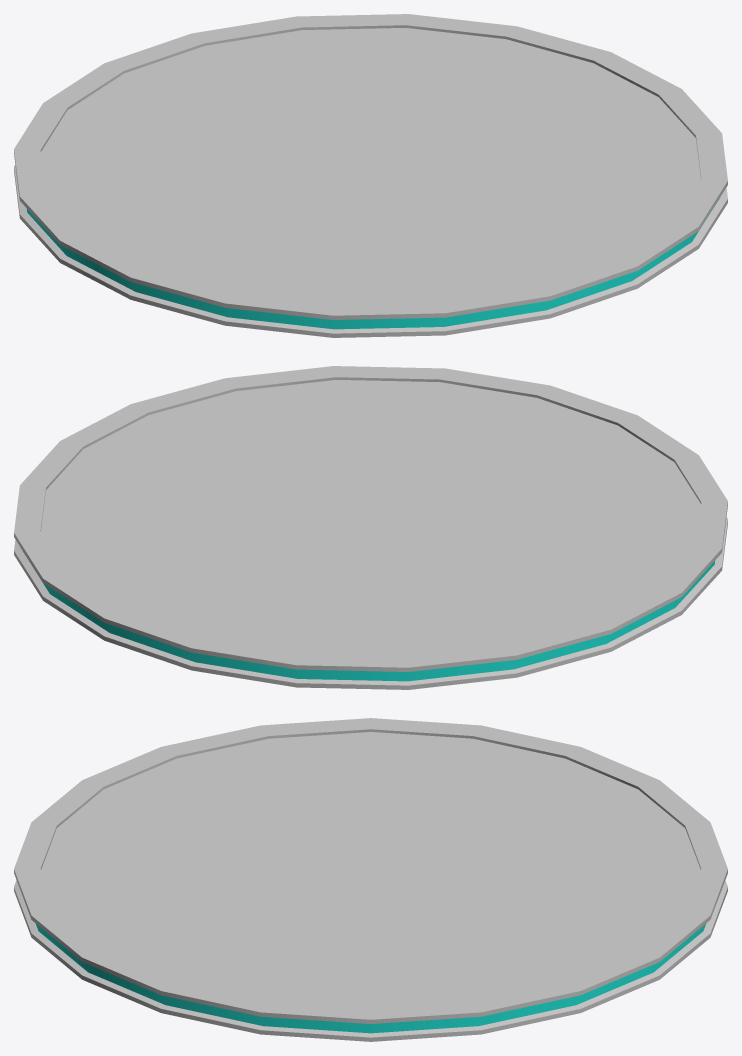
The model's file is piattaforma mod.fbx.
3 views of the same model, one above another, from view 1: azimuth 30°, elevation 25°; view 2: azimuth 150°, elevation 25°; view 3: azimuth 270°, elevation 25° (orthographic).
Visible parts, largest first — view 1: pCylinder1; view 2: pCylinder1; view 3: pCylinder1.
Part boxes in pixels (x1,y1,x2,y2): pCylinder1: (14,14,727,337); pCylinder1: (14,366,727,689); pCylinder1: (14,718,727,1041).
Bounding box in the file's own units: 509 × 17.42 × 509.
